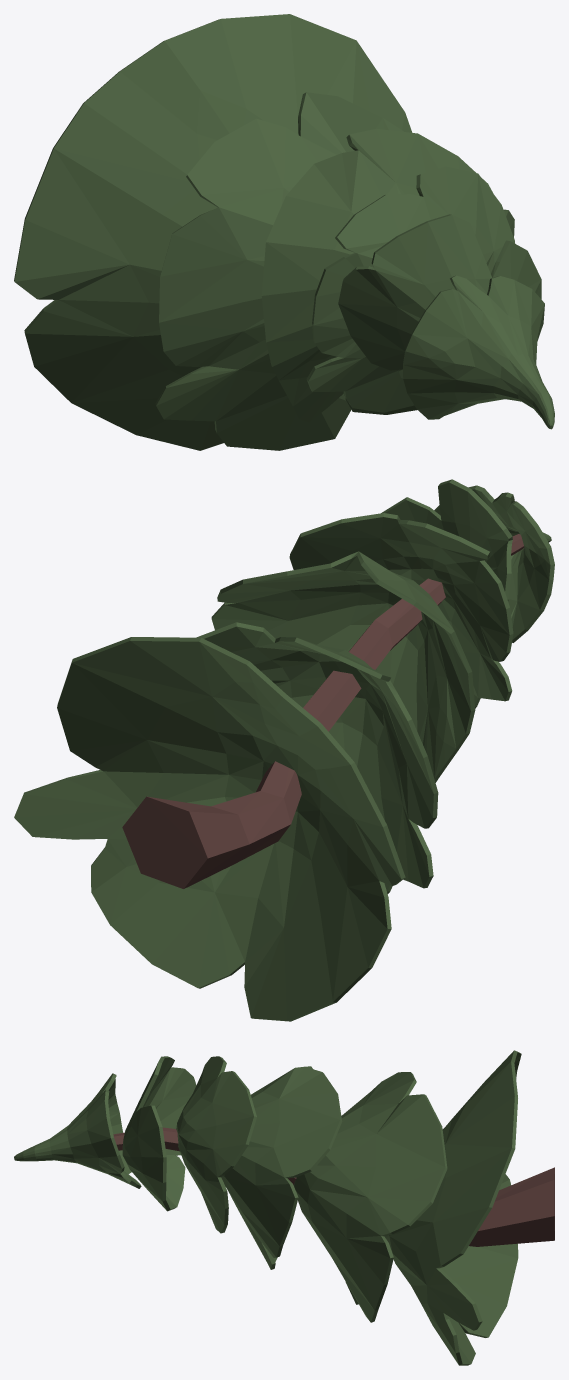
Rendered from tree-pine-3-52-ft.obj.
3 renders of one model, top to bottom at view 1: azimuth 30°, elevation 25°; view 2: azimuth 150°, elevation 25°; view 3: azimuth 270°, elevation 25°, orthographic. The views are drawn at different scales.
Parts seen in each view (by area): view 1: tree-pine-3-52-ft; view 2: tree-pine-3-52-ft; view 3: tree-pine-3-52-ft.
Part boxes in pixels (<box>): tree-pine-3-52-ft: <box>14,14,554,450</box>; tree-pine-3-52-ft: <box>14,479,554,1021</box>; tree-pine-3-52-ft: <box>14,1050,554,1365</box>.
Bounding box in the file's own units: 409 × 369 × 624.
